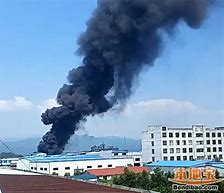smoke: (36, 1, 204, 151)
